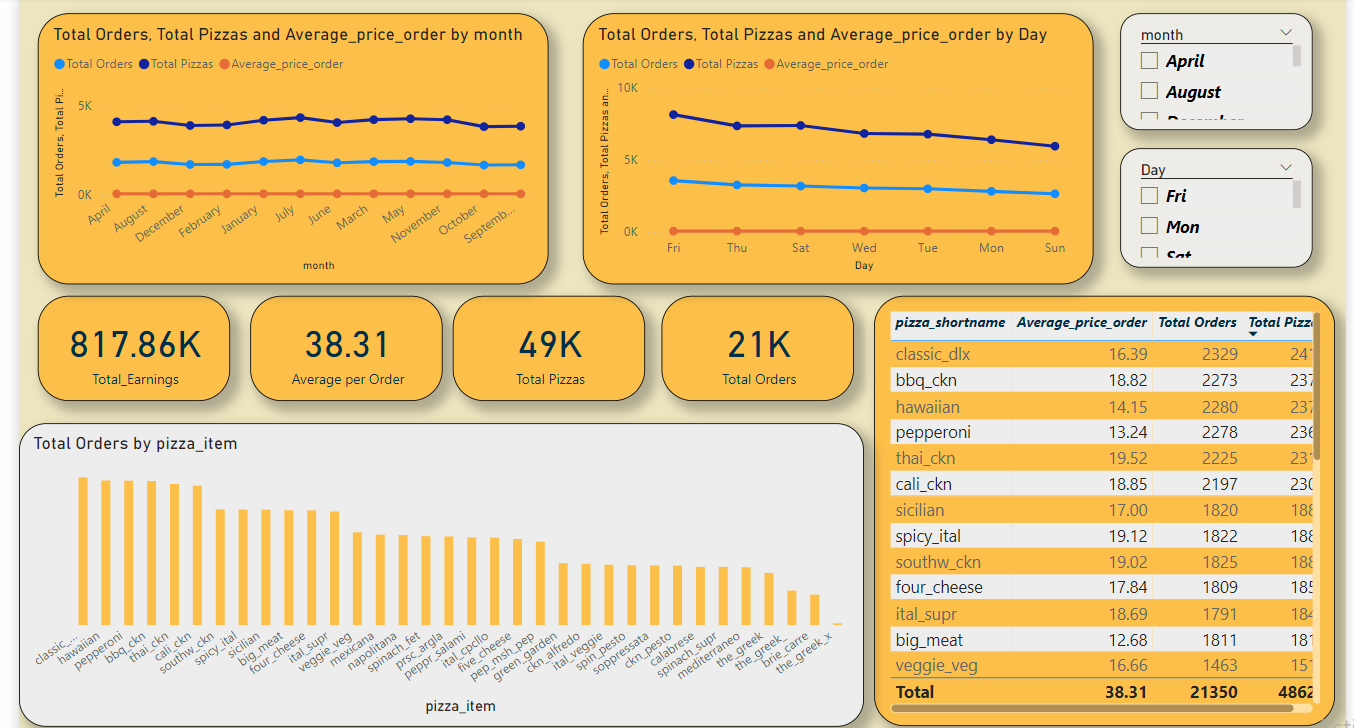

Layout of this report page (visuals, bound fields, positions):
{"tool":"powerbi","page":{"name":"Page 1","canvas":[1280,720],"ordinal":0},"visuals":[{"type":"card","fields":{"Values":["Sum(pizza_sales.Total_Earnings)"]},"box":[18.3,288.7,185.9,101.4],"z":2000},{"type":"tableEx","fields":{"Values":["pizza_sales.pizza_shortname","Measures Table.Average_price_order","Measures Table.Total Orders","Measures Table.Total Pizzas"]},"box":[825.4,288.7,445.1,415.5],"z":4000},{"type":"card","fields":{"Values":["Measures Table.Total Orders"]},"box":[619.7,288.7,185.9,101.4],"z":4001},{"type":"card","fields":{"Values":["Measures Table.Average_price_order"]},"box":[222.5,288.7,185.9,101.4],"z":4002},{"type":"card","fields":{"Values":["Measures Table.Total Pizzas"]},"box":[418.3,288.7,185.9,101.4],"z":4003},{"type":"slicer","fields":{"Values":["pizza_sales.month"]},"box":[1062,15.5,185.9,112.7],"z":4004},{"type":"lineChart","fields":{"Category":["pizza_sales.month"],"Y":["Measures Table.Total Orders","Measures Table.Total Pizzas","Measures Table.Average_price_order"]},"box":[18.3,15.5,493,262],"z":4005},{"type":"ribbonChart","fields":{"Category":["pizza_sales.pizza_shortname"],"Y":["Measures Table.Total Orders"]},"box":[0,411.3,815.5,293],"z":4006},{"type":"lineChart","fields":{"Category":["pizza_sales.Day"],"Y":["Measures Table.Total Orders","Measures Table.Total Pizzas","Measures Table.Average_price_order"]},"box":[543.7,15.5,493,262],"z":4007},{"type":"slicer","fields":{"Values":["pizza_sales.Day"]},"box":[1062,146.5,185.9,115.5],"z":4008}]}

Visuals, with their boxes in screenshot pixels (x1, y1, x2, y2):
card - Sum(pizza_sales.Total_Earnings): <box>37,291,228,395</box>
tableEx - pizza_sales.pizza_shortname x Measures Table.Average_price_order: <box>869,291,1328,719</box>
card - Measures Table.Total Orders: <box>657,291,849,395</box>
card - Measures Table.Average_price_order: <box>247,291,439,395</box>
card - Measures Table.Total Pizzas: <box>449,291,641,395</box>
slicer - pizza_sales.month: <box>1113,9,1305,125</box>
lineChart - pizza_sales.month x Measures Table.Total Orders: <box>37,9,545,279</box>
ribbonChart - pizza_sales.pizza_shortname x Measures Table.Total Orders: <box>18,417,859,719</box>
lineChart - pizza_sales.Day x Measures Table.Total Orders: <box>578,9,1087,279</box>
slicer - pizza_sales.Day: <box>1113,144,1305,263</box>
